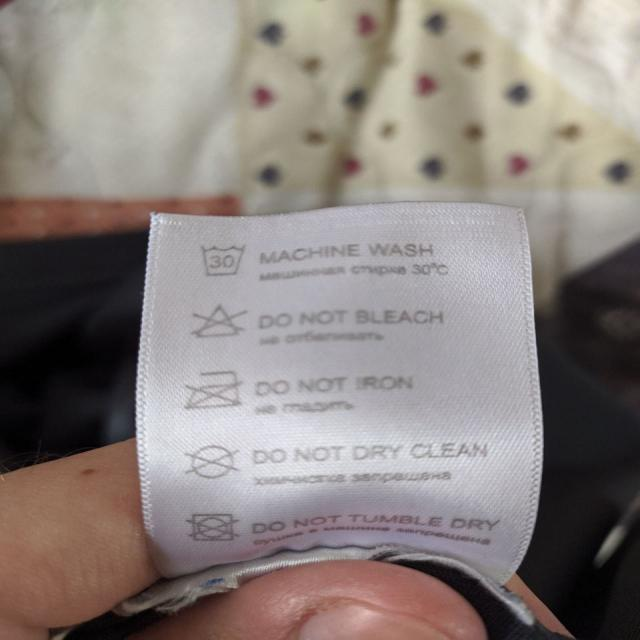30C: (201, 238, 250, 279)
DN_bleach: (190, 299, 250, 344)
DN_dry_clean: (184, 440, 243, 481)
DN_iron: (182, 364, 247, 412)
DN_tumble_dry: (183, 510, 240, 546)
